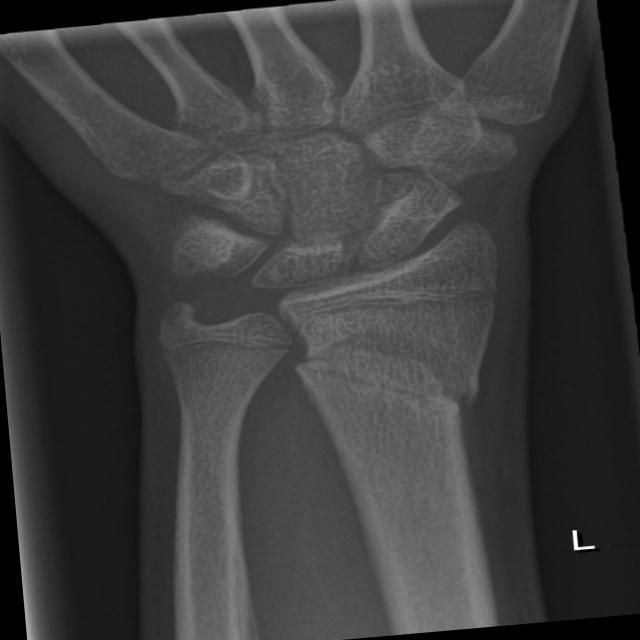fracture: (273, 331, 493, 447), (276, 272, 521, 340), (144, 314, 318, 372)
